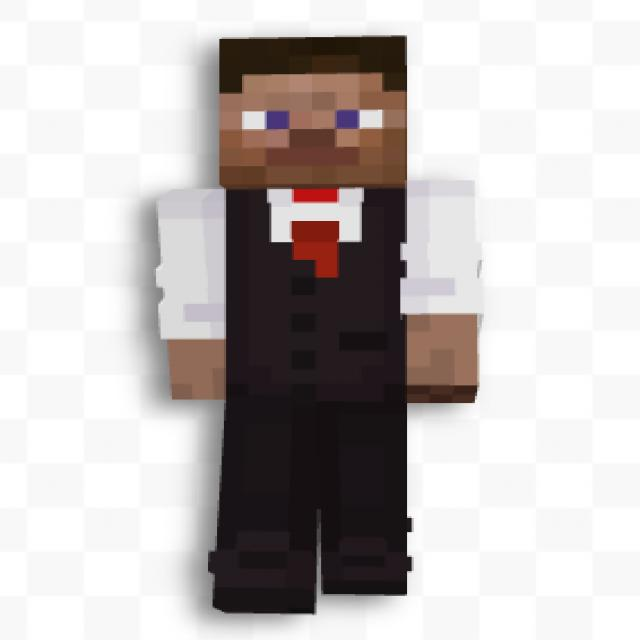Player: (156, 36, 480, 614)
